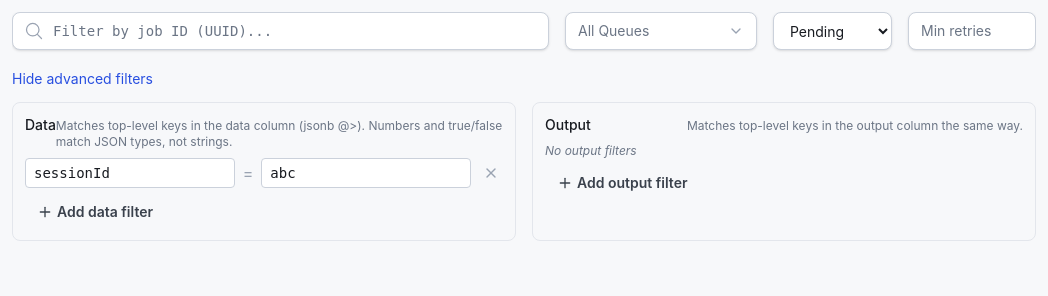
it: JobsFilterBar › renders a new empty row when "Add data filter" is clicked but does not commit it
Step 1. Click the button "Add data filter" → click(95, 212), box [25,196,165,228]
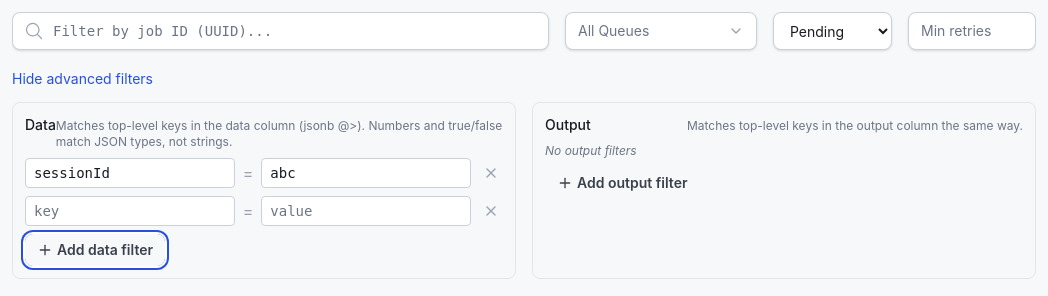
Check: the field named "Data filter key 2" is shown, box [25,196,235,226]
Check: the field named "Data filter value 2" is shown, box [261,196,471,226]
